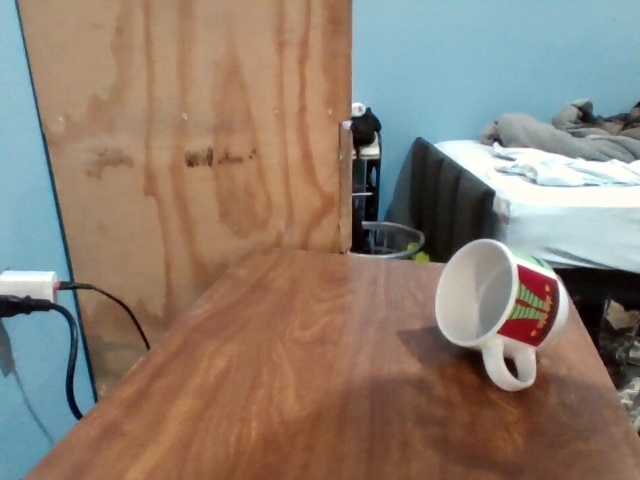taza: (433, 238, 555, 392)
